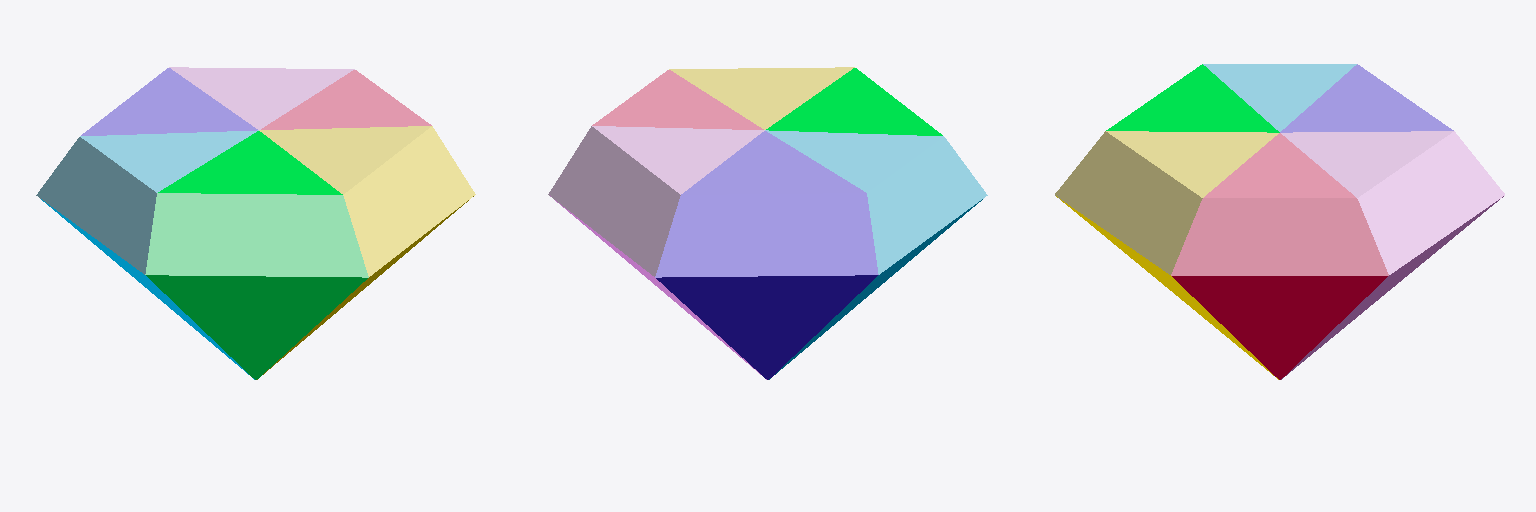
The picture shows the model from 3 angles: view 1: azimuth 30°, elevation 25°; view 2: azimuth 150°, elevation 25°; view 3: azimuth 270°, elevation 25°; orthographic projection.
Visible parts, largest first — view 1: Plane; view 2: Plane; view 3: Plane.
Boxes of the visible parts, x1=… form: Plane: x1=36, y1=67, x2=475, y2=379; Plane: x1=548, y1=67, x2=987, y2=379; Plane: x1=1055, y1=64, x2=1504, y2=379.
Bounding box in the file's own units: 1.49 × 1.08 × 1.76.
1 materials, 1 textured.